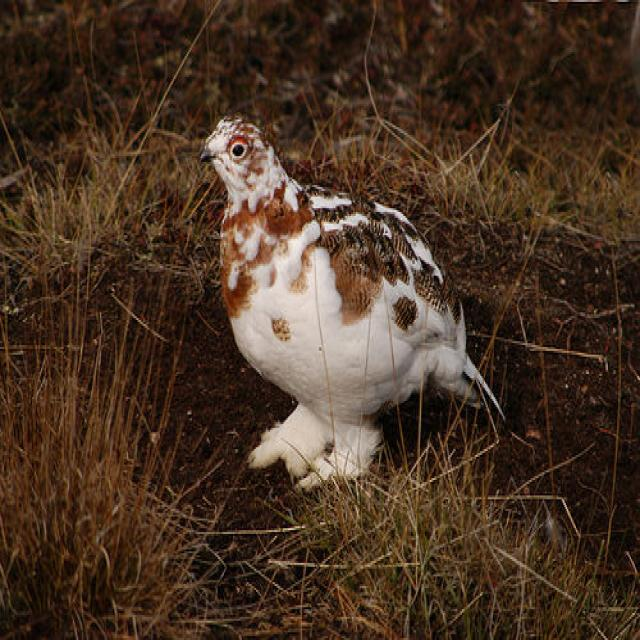bird: (195, 107, 508, 496)
